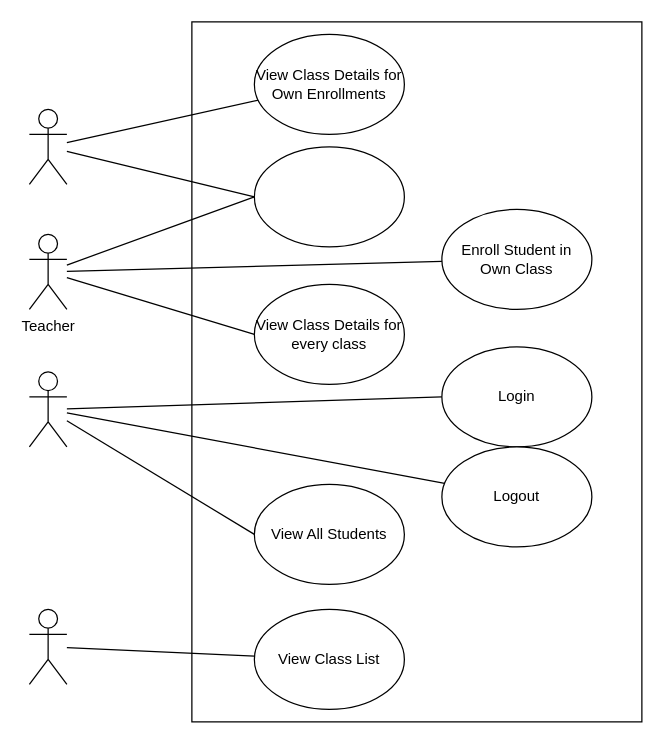
The diagram is 664 pixels wide and 744 high, and some of its shapes have lost their labels. Each missing label, with the box of its shape:
Public: (28, 608, 67, 684)
Student: (28, 108, 67, 184)
Update Student Details: (253, 146, 404, 247)
User: (28, 371, 67, 447)
